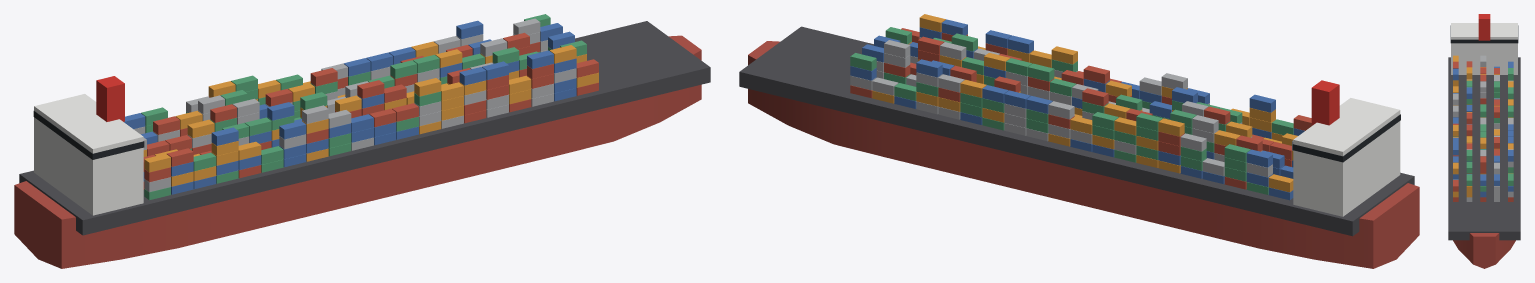
Rendered from SM_CargoShip.fbx.
3 renders of one model, left to right at view 1: azimuth 30°, elevation 25°; view 2: azimuth 150°, elevation 25°; view 3: azimuth 270°, elevation 25°, orthographic. The views are drawn at different scales.
Parts seen in each view (by area): view 1: SM_CargoShip; view 2: SM_CargoShip; view 3: SM_CargoShip.
Boxes of the visible parts, left/top/right/bottom form: SM_CargoShip: left=14, top=14, right=710, bottom=268; SM_CargoShip: left=739, top=14, right=1419, bottom=268; SM_CargoShip: left=1448, top=14, right=1520, bottom=268.
Size of the model in its own units: 18000 by 4200 by 3020.
